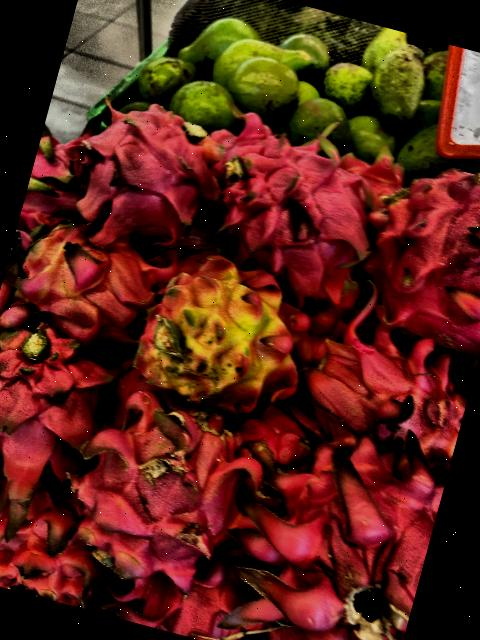buah-naga-belum-matang: (125, 252, 326, 426), (0, 221, 172, 355)
buah-naga-matang: (233, 429, 448, 640), (55, 378, 262, 590), (281, 281, 480, 496), (185, 111, 394, 299), (54, 106, 222, 272), (348, 152, 480, 352), (0, 324, 121, 501)
